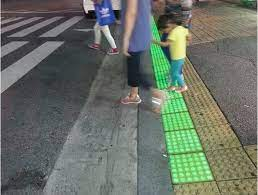guide_blocks: (158, 62, 242, 143), (165, 143, 258, 195), (148, 18, 189, 62)
